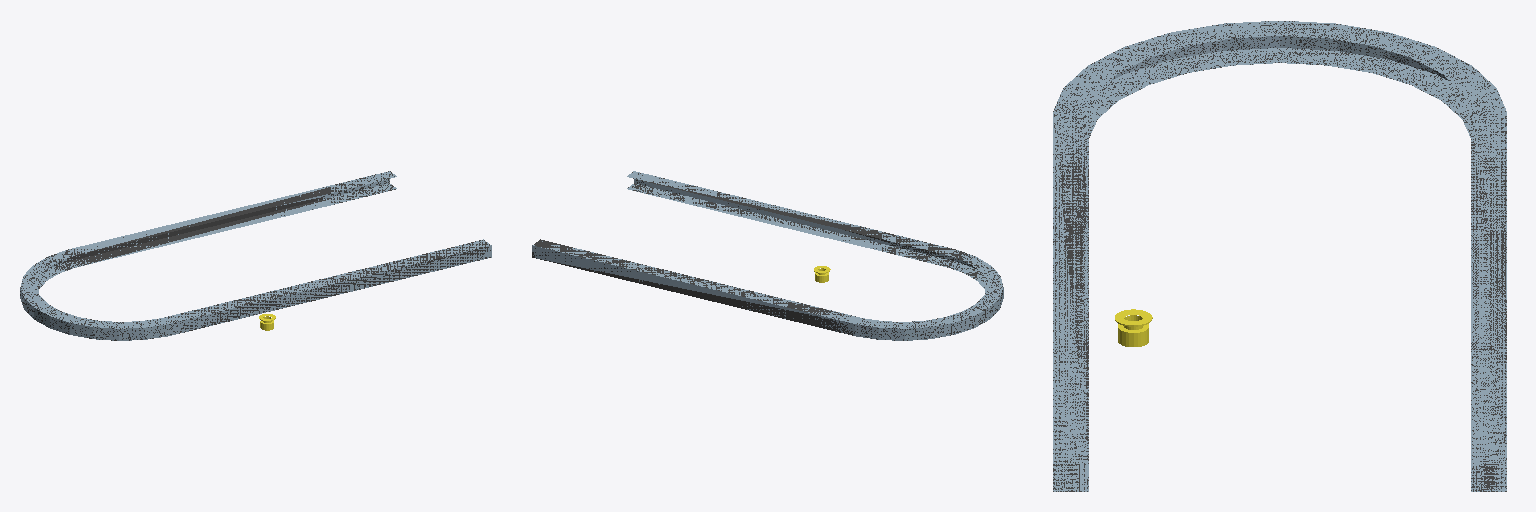
URDF robot description (right-pull-door):
<robot name="right-pull-door">
	<link name="base" />
	<link name="link_0">
		<visual name="out-frame">
			<origin xyz="0 0 0" />
			<geometry>
				<mesh filename="texture_dae/frame.dae" scale="0.843806620852418 0.843806620852418 0.843806620852418" />
			</geometry>
		</visual>
		<collision>
			<origin xyz="0 0 0" />
			<geometry>
				<mesh filename="texture_dae/frame.dae" scale="0.843806620852418 0.843806620852418 0.843806620852418" />
			</geometry>
		</collision>
	</link>
	<joint name="joint_0" type="fixed">
		<origin rpy="1.570796326794897 0 -1.570796326794897" xyz="0 0 0" />
		<child link="link_0" />
		<parent link="base" />
	</joint>
	<link name="link_1">
		<visual name="surf-board">
			<origin xyz="0.33995306770267675 -0.8749363357899657 0" />
			<geometry>
				<mesh filename="texture_dae/board.dae" scale="0.843806620852418 0.843806620852418 0.843806620852418" />
			</geometry>
		</visual>
		<collision>
			<origin xyz="0.33995306770267675 -0.8749363357899657 0" />
			<geometry>
				<mesh filename="texture_dae/board.dae" scale="0.843806620852418 0.843806620852418 0.843806620852418" />
			</geometry>
		</collision>
	</link>
	<joint name="joint_1" type="revolute">
		<origin xyz="-0.33995306770267675 0.8749363357899657 0" />
		<axis xyz="0 -1 0" />
		<child link="link_1" />
		<parent link="link_0" />
		<limit lower="0" upper="1.5079644737231006" />
	</joint>
	<link name="link_2">
		<visual name="handle">
			<origin xyz="0 0 0" />
			<geometry>
				<mesh filename="texture_dae/9962007.dae" scale="1.150267945338981 1.150267945338981 1.150267945338981" />
			</geometry>
		</visual>
		<collision>
			<origin xyz="0 0 0" />
			<geometry>
				<mesh filename="texture_dae/9962007.dae" scale="1.150267945338981 1.150267945338981 1.150267945338981" />
			</geometry>
		</collision>
	</link>
	<joint name="joint_2" type="revolute">
		<origin xyz="0.5993307624505774 -1.0001696342623887 0.01814855306834998" />
		<child link="link_2" />
		<parent link="link_1" />
		<axis xyz="0 0 1" />
		<limit lower="0" upper="0" />
	</joint>
</robot>

--- Facts derived from the render (not from the file) ---
Views: 3 orthographic renders of the robot side by side, from view 1: azimuth 30°, elevation 25°; view 2: azimuth 150°, elevation 25°; view 3: azimuth 270°, elevation 25°.
Model right-pull-door with 4 links and 3 joints (2 revolute, 1 fixed), rooted at base, posed all joints at 0.
Links seen in each view (by area): view 1: link_0; view 2: link_0; view 3: link_0, link_2.
Boxes of the visible links, x1=… form: link_0: x1=20, y1=171, x2=491, y2=340; link_0: x1=532, y1=171, x2=1003, y2=340; link_0: x1=1053, y1=21, x2=1506, y2=491; link_2: x1=1115, y1=309, x2=1152, y2=346.
Bounding box of the posed robot: 1.86 × 0.8067 × 0.1986 m (x, y, z).
2 mesh visuals loaded from 3 distinct referenced files (2 Collada DAE); not drawn: 1 (reference not matched to a file when rendering).
